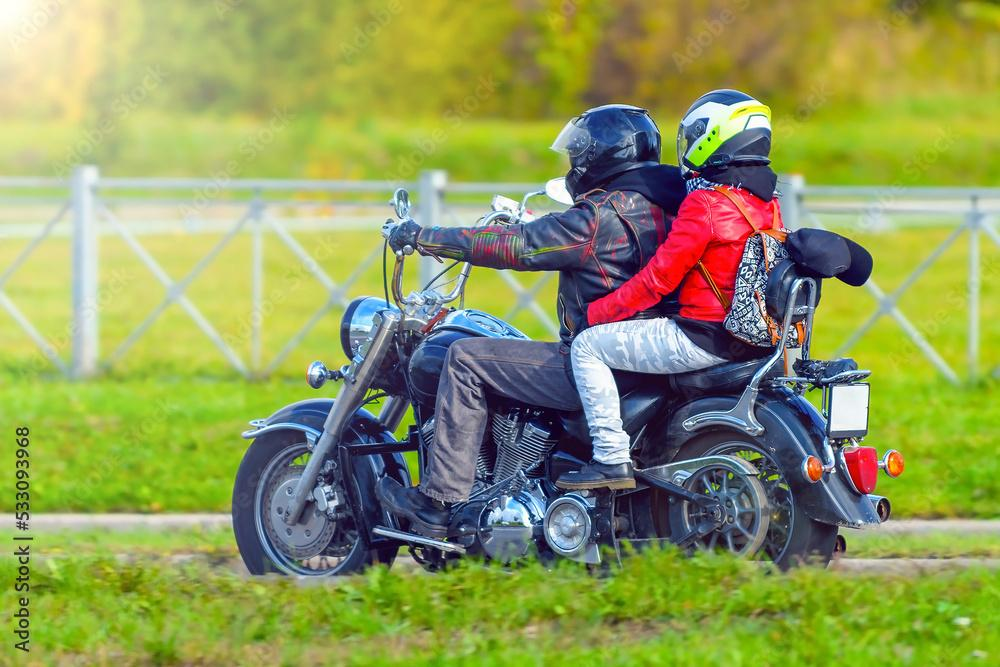helmet: (548, 102, 663, 205), (676, 88, 773, 182)
